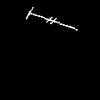treble_crochet: (26, 8, 76, 29)
